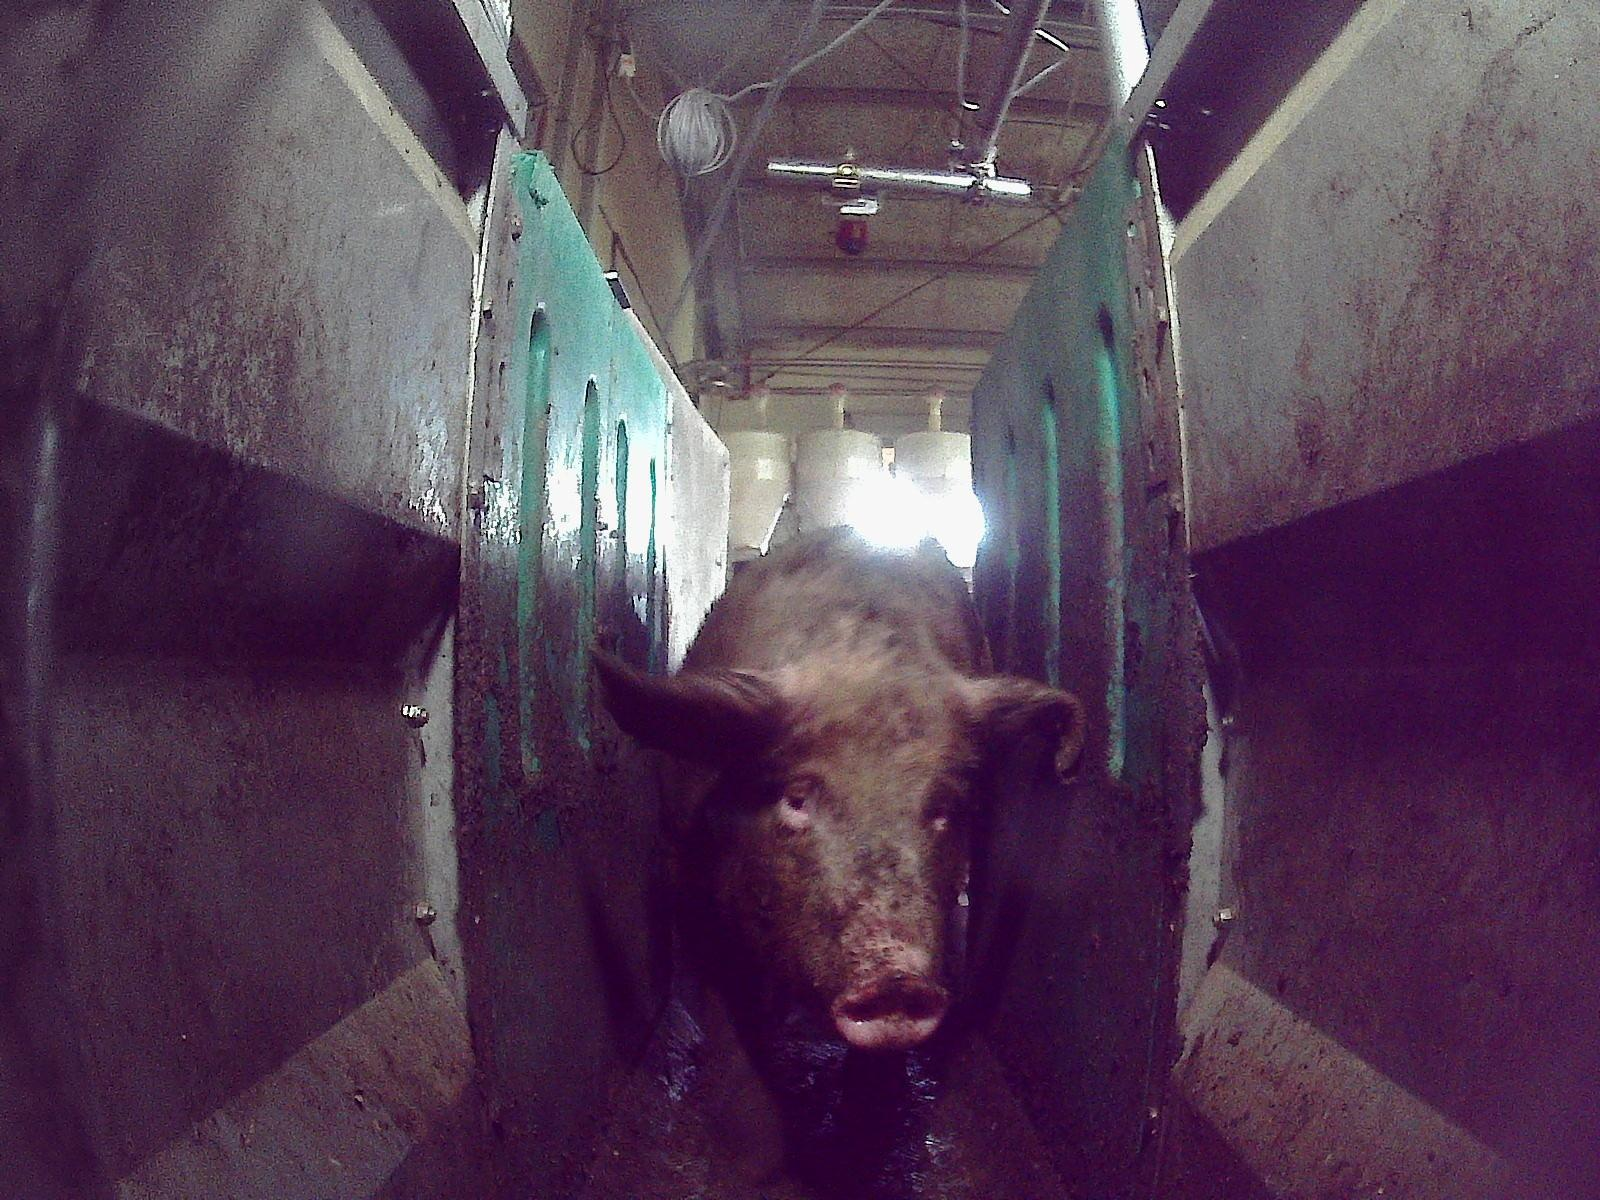Face: (710, 660, 969, 1046)
